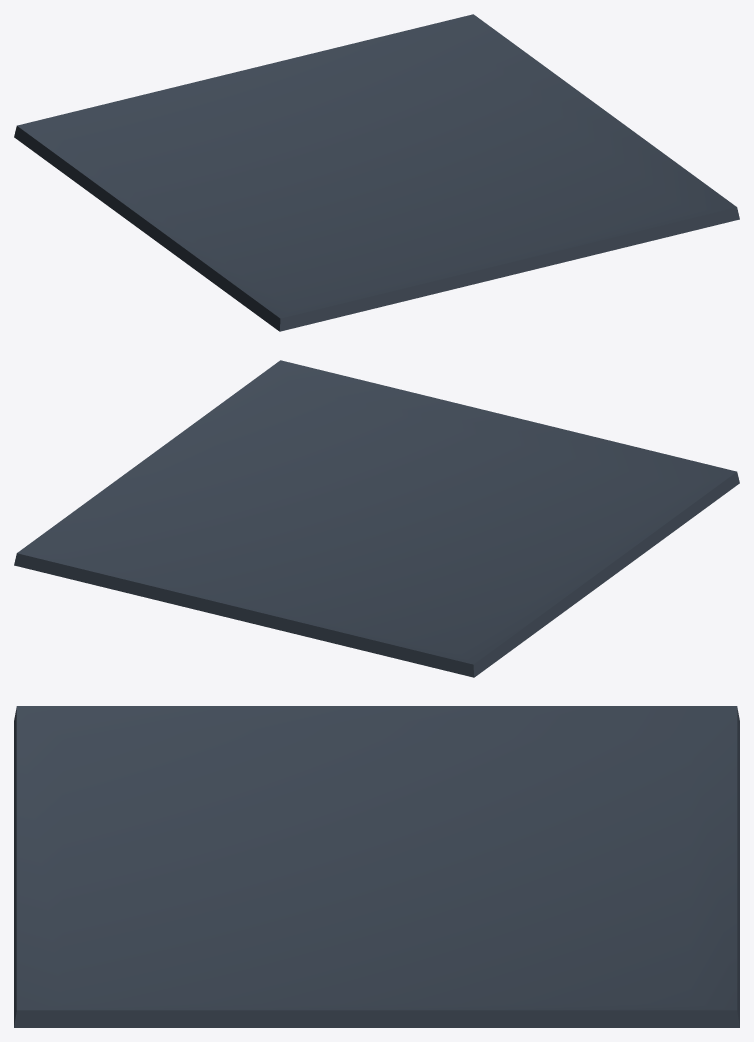
File: Ceiling1.fbx
The picture shows the model from 3 angles, top to bottom: view 1: azimuth 30°, elevation 25°; view 2: azimuth 150°, elevation 25°; view 3: azimuth 270°, elevation 25°; orthographic projection. The views are drawn at different scales.
Parts seen in each view (by area): view 1: Plane.251; view 2: Plane.251; view 3: Plane.251.
Boxes of the visible parts, x1,y1,x2,y2 form: Plane.251: (14, 14, 739, 331); Plane.251: (14, 360, 739, 677); Plane.251: (14, 706, 739, 1027).
Bounding box in the file's own units: 4031 × 181 × 4031.
